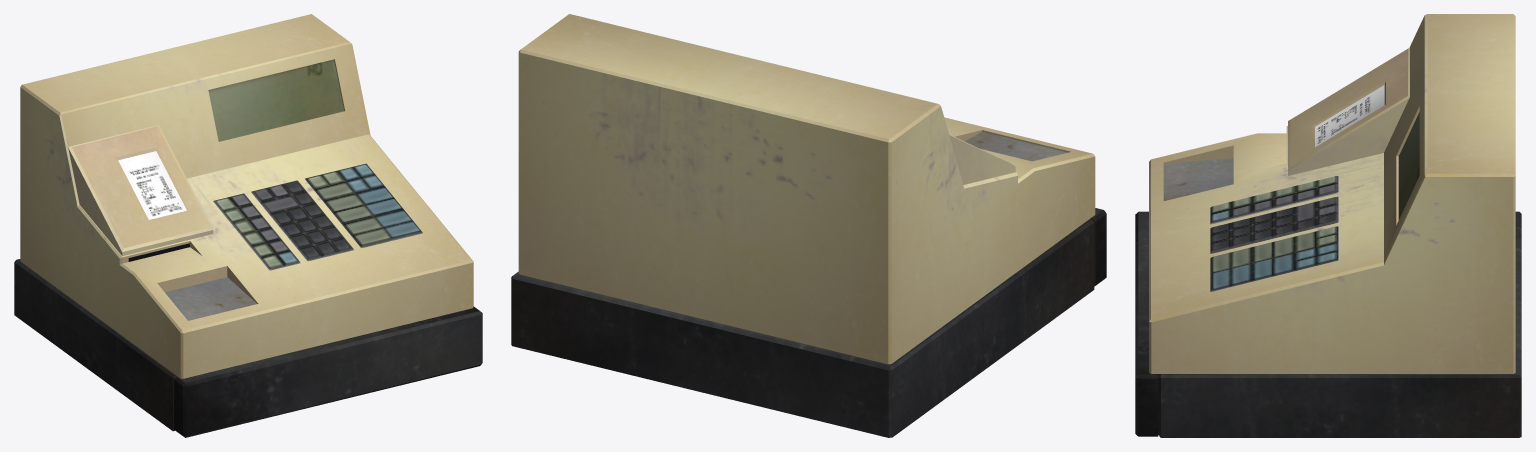
File: shop_regi01.fbx
3 renders of one model, left to right at view 1: azimuth 30°, elevation 25°; view 2: azimuth 150°, elevation 25°; view 3: azimuth 270°, elevation 25°, orthographic. The views are drawn at different scales.
Parts seen in each view (by area): view 1: shop_regi01; view 2: shop_regi01; view 3: shop_regi01.
Part boxes in pixels (x1,y1,x2,y2): shop_regi01: (14,14,482,437); shop_regi01: (511,14,1106,437); shop_regi01: (1135,14,1521,437).
Size of the model in its own units: 45.09 by 33.25 by 44.56.
